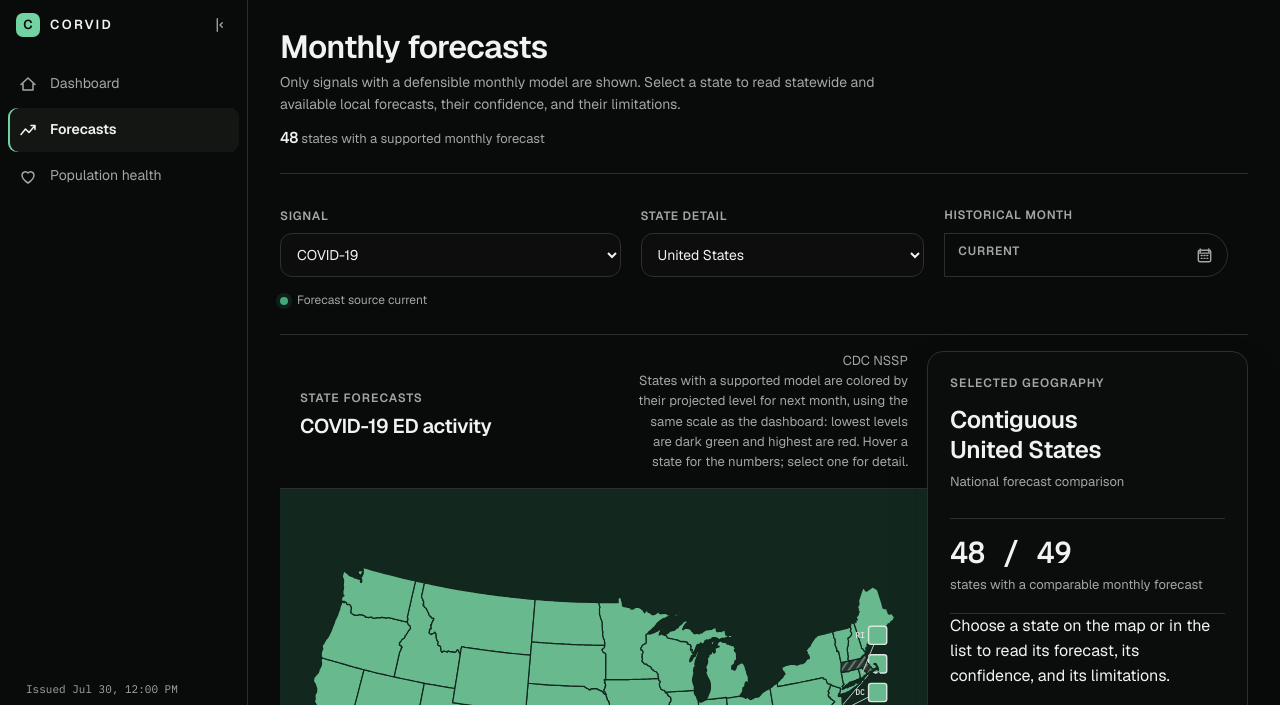
it: ForecastsPage (monthly state-level, supported only) › shows a caveat instead of confidence when the model is not supported
The image size is (1280, 705).
Select "Massachusetts" in the dropdown named "Forecast state" at (782, 255), box [640,233,924,277]
(page scrolled)
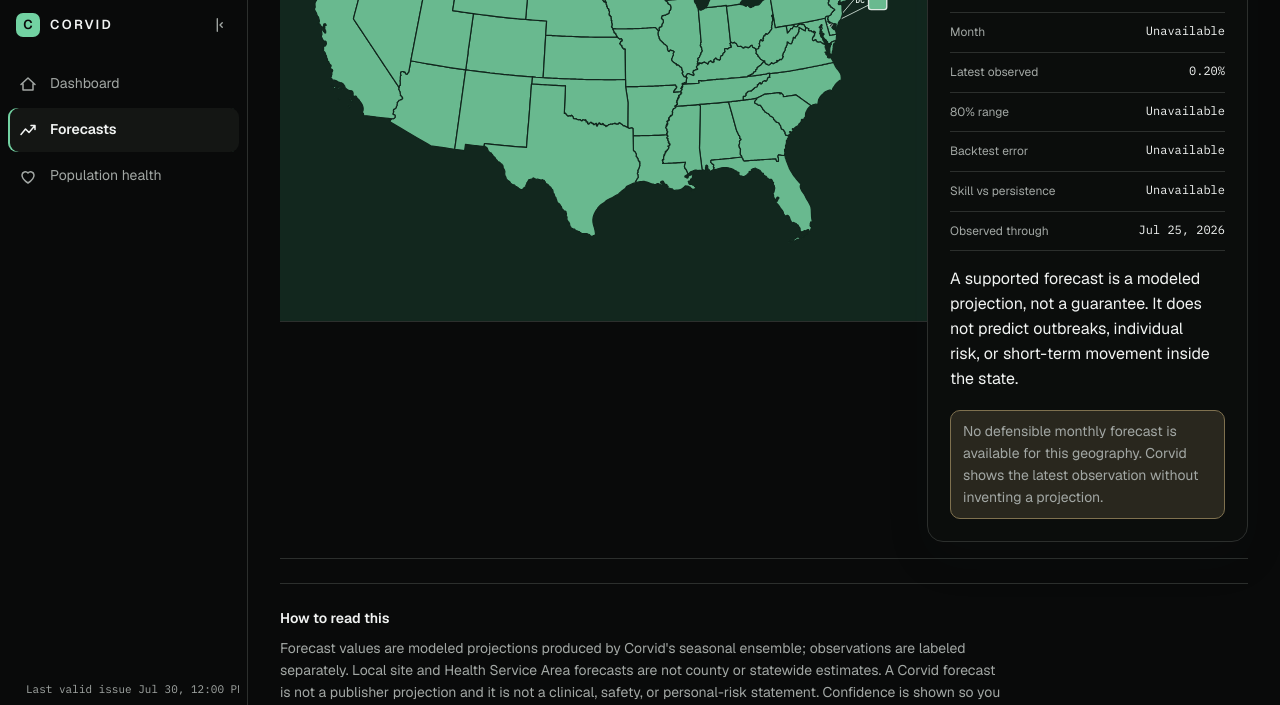
Expected: the text "No defensible monthly forecast is available" is shown, [963,422,1198,506]
